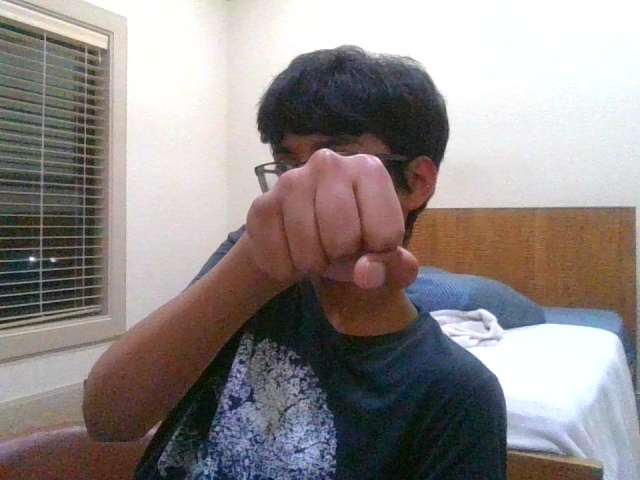yes: (247, 148, 419, 290)
